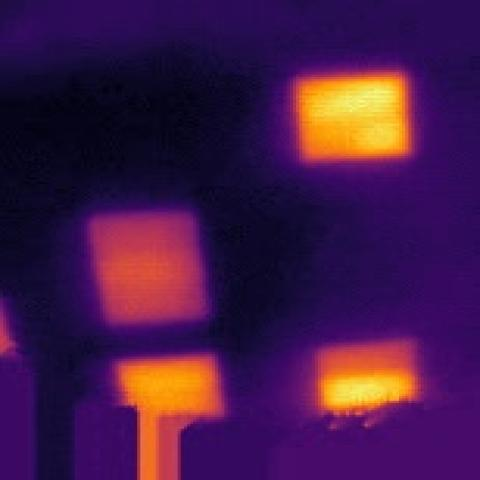fault: (77, 206, 229, 331), (289, 66, 421, 172), (308, 332, 427, 413), (114, 348, 234, 424), (0, 287, 21, 366)
